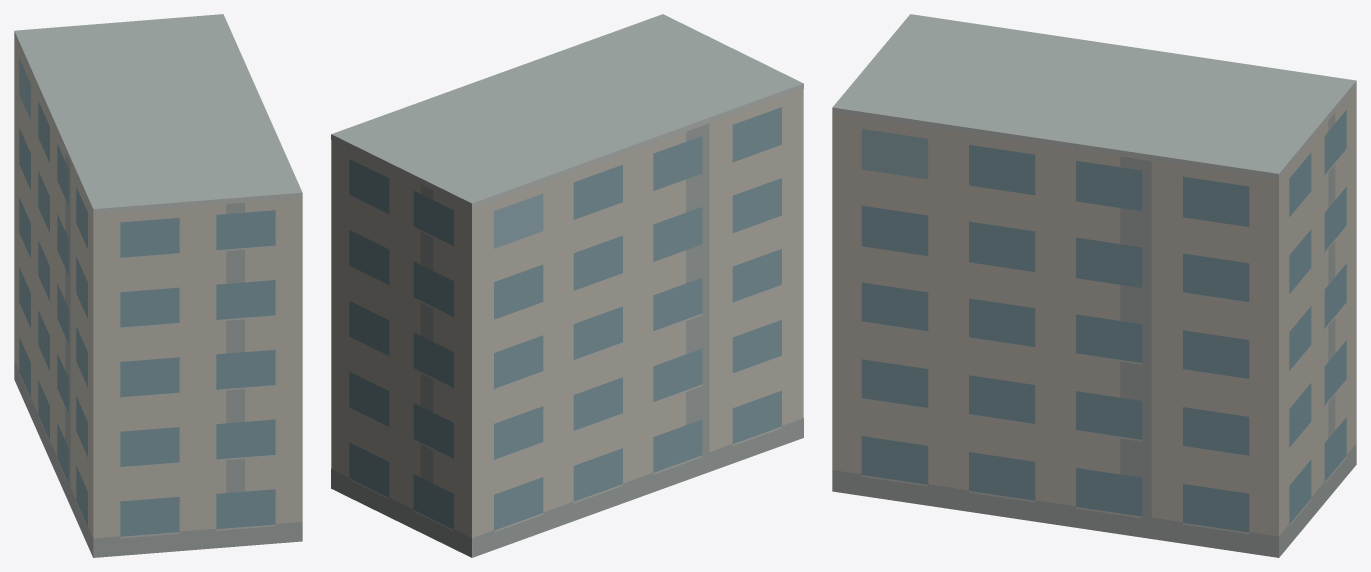
File: residential-252c87c1-9dc8-4d72-8531-3bf9b4d8de61.glb
The picture shows the model from 3 angles, left to right: view 1: azimuth 30°, elevation 25°; view 2: azimuth 150°, elevation 25°; view 3: azimuth 270°, elevation 25°; orthographic projection. The views are drawn at different scales.
Visible parts, largest first — view 1: residential-252c87c1-9dc8-4d72-8531-3bf9b4d8de61.tmp; view 2: residential-252c87c1-9dc8-4d72-8531-3bf9b4d8de61.tmp; view 3: residential-252c87c1-9dc8-4d72-8531-3bf9b4d8de61.tmp.
Part boxes in pixels (x1,y1,x2,y2): residential-252c87c1-9dc8-4d72-8531-3bf9b4d8de61.tmp: [14, 14, 302, 557]; residential-252c87c1-9dc8-4d72-8531-3bf9b4d8de61.tmp: [331, 14, 803, 557]; residential-252c87c1-9dc8-4d72-8531-3bf9b4d8de61.tmp: [832, 14, 1356, 557].
Bounding box in the file's own units: 13.63 × 15.25 × 18.88.
